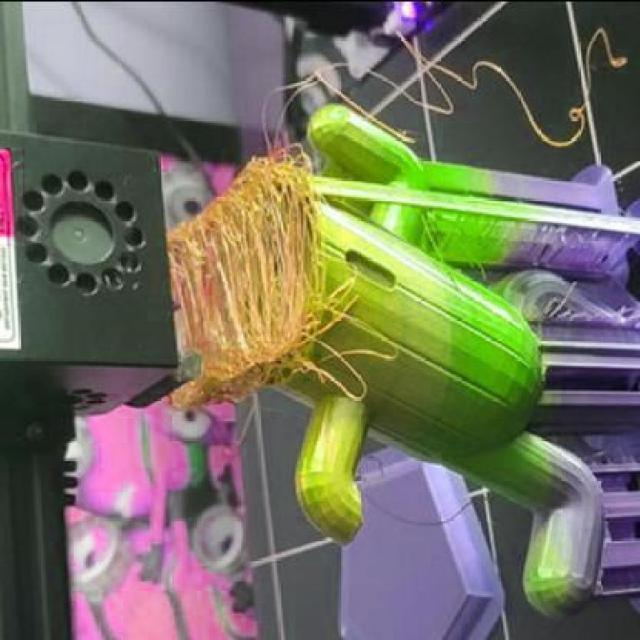spaghetti: (163, 138, 397, 410), (259, 24, 627, 144)
